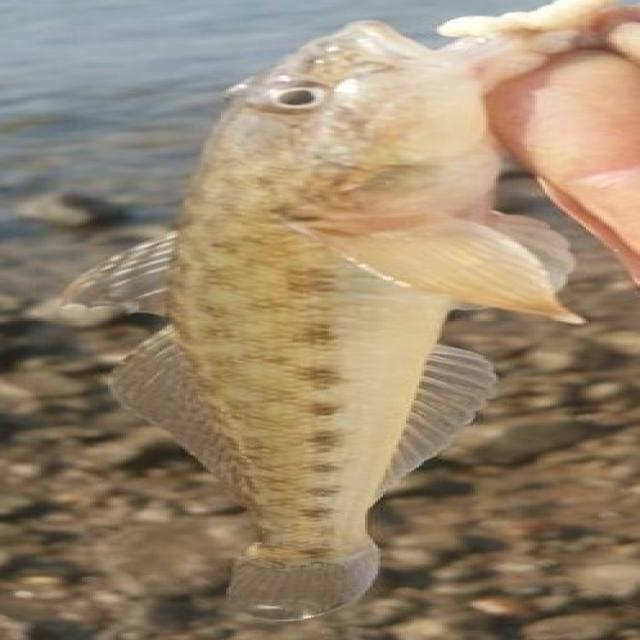Goby: (85, 0, 640, 631)
